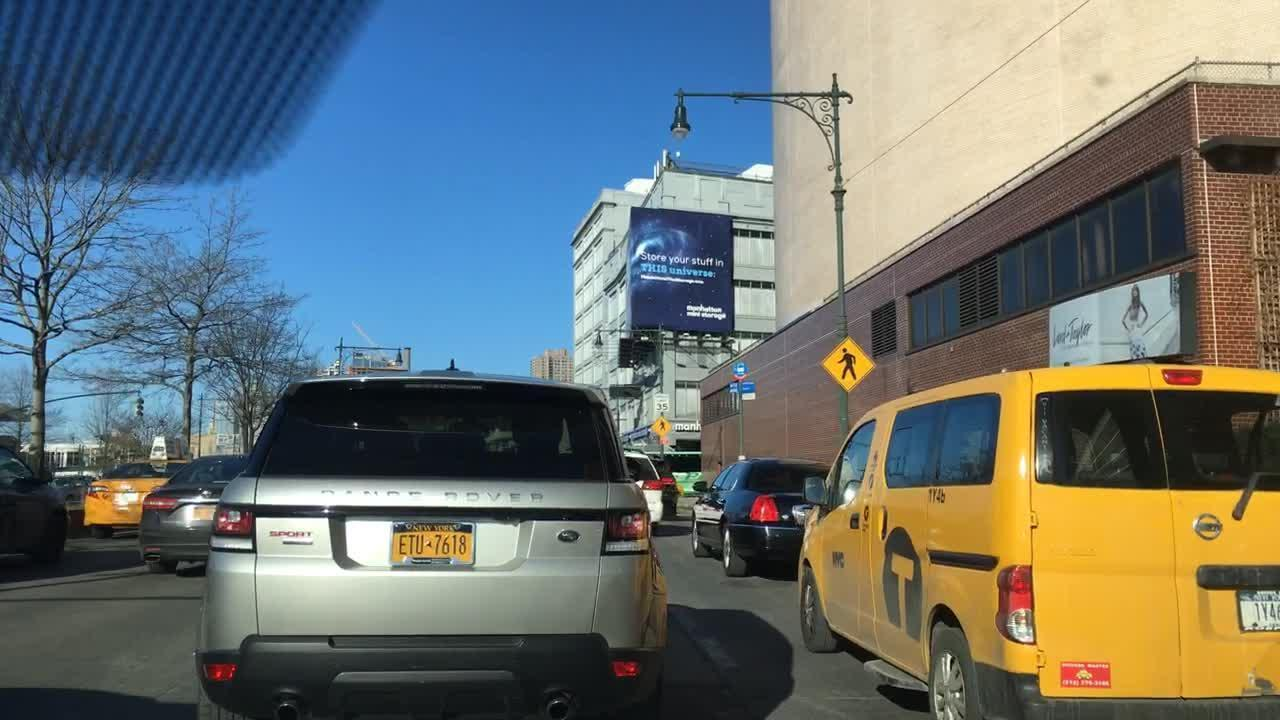range rover: (313, 482, 549, 514)
